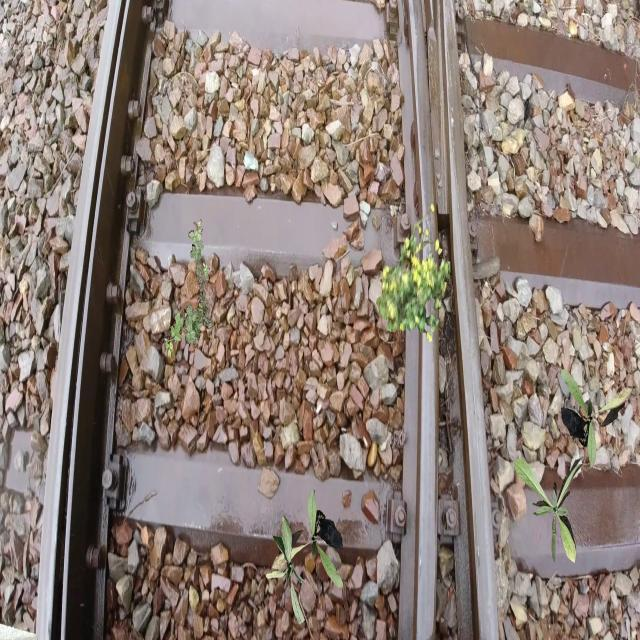Plant: (376, 203, 451, 343), (514, 456, 586, 564), (272, 489, 344, 588), (561, 369, 632, 468), (164, 220, 212, 358), (266, 515, 306, 625)
